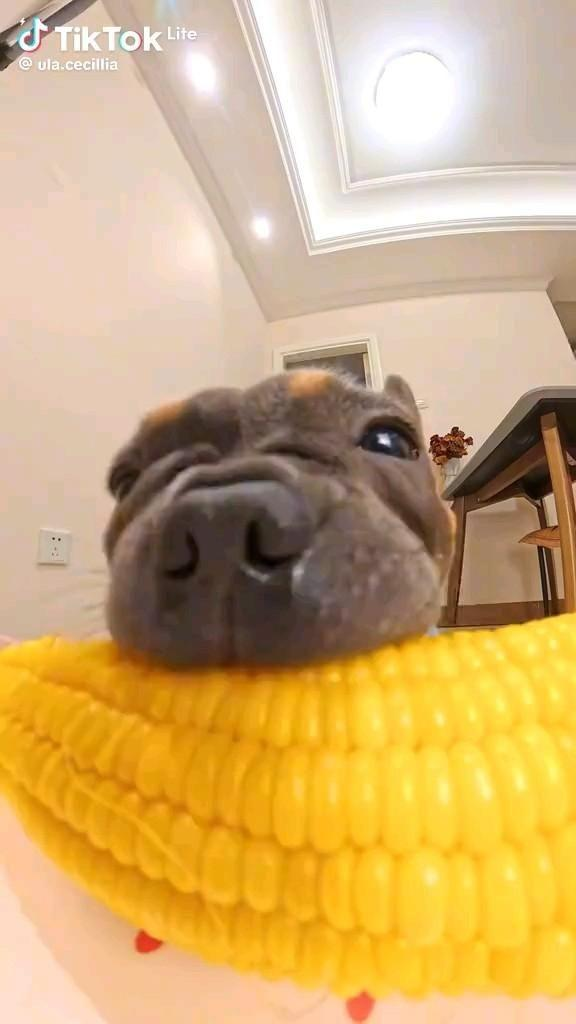puppy-dog: (97, 363, 452, 671)
